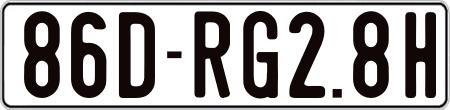2: (286, 9, 328, 101)
6: (68, 9, 106, 100)
8: (24, 10, 65, 100), (352, 10, 389, 102)
D: (116, 10, 154, 99)
G: (240, 10, 277, 100)
H: (402, 12, 435, 101)
R: (191, 9, 233, 96)
